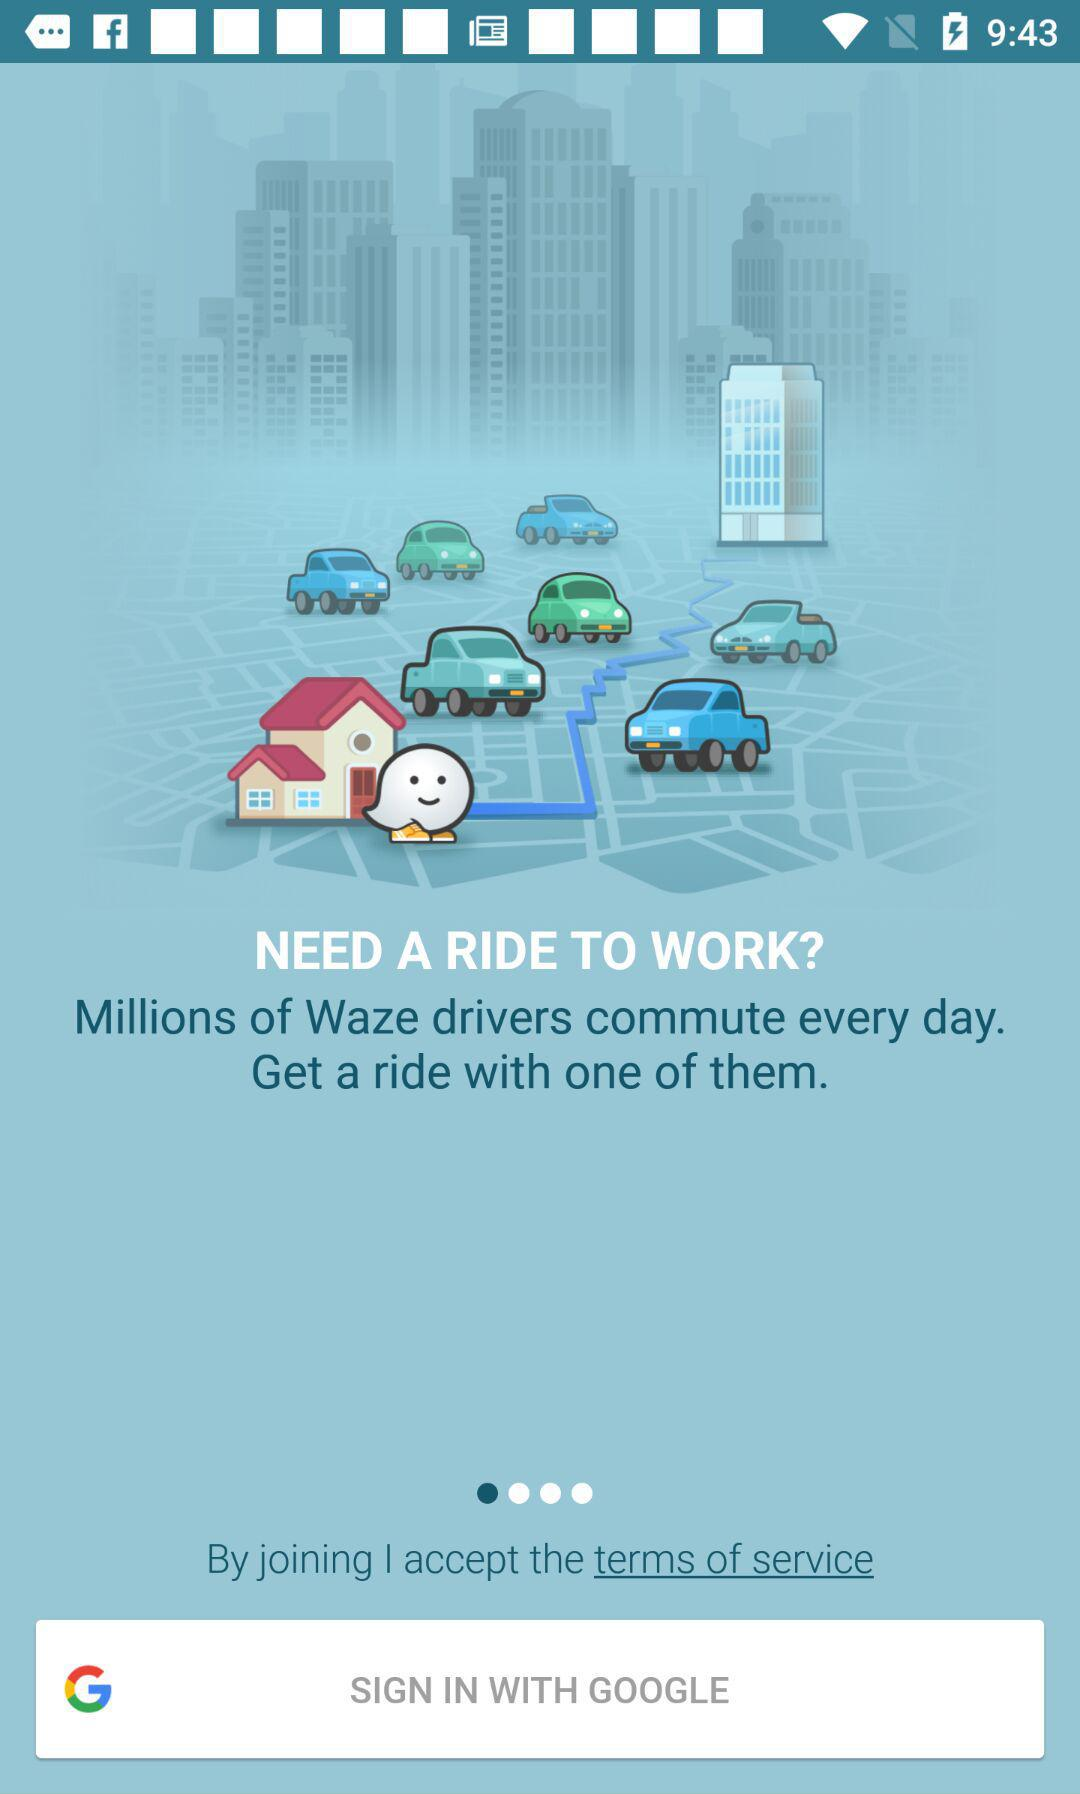Image: (82, 65, 972, 891)
PageIndicator: (477, 1481, 596, 1506)
Text: (76, 996, 1004, 1093), (208, 1542, 875, 1586), (256, 929, 825, 973)
TextButton: (36, 1618, 1045, 1759)
UpperTaskBar: (1, 1, 1080, 64)
